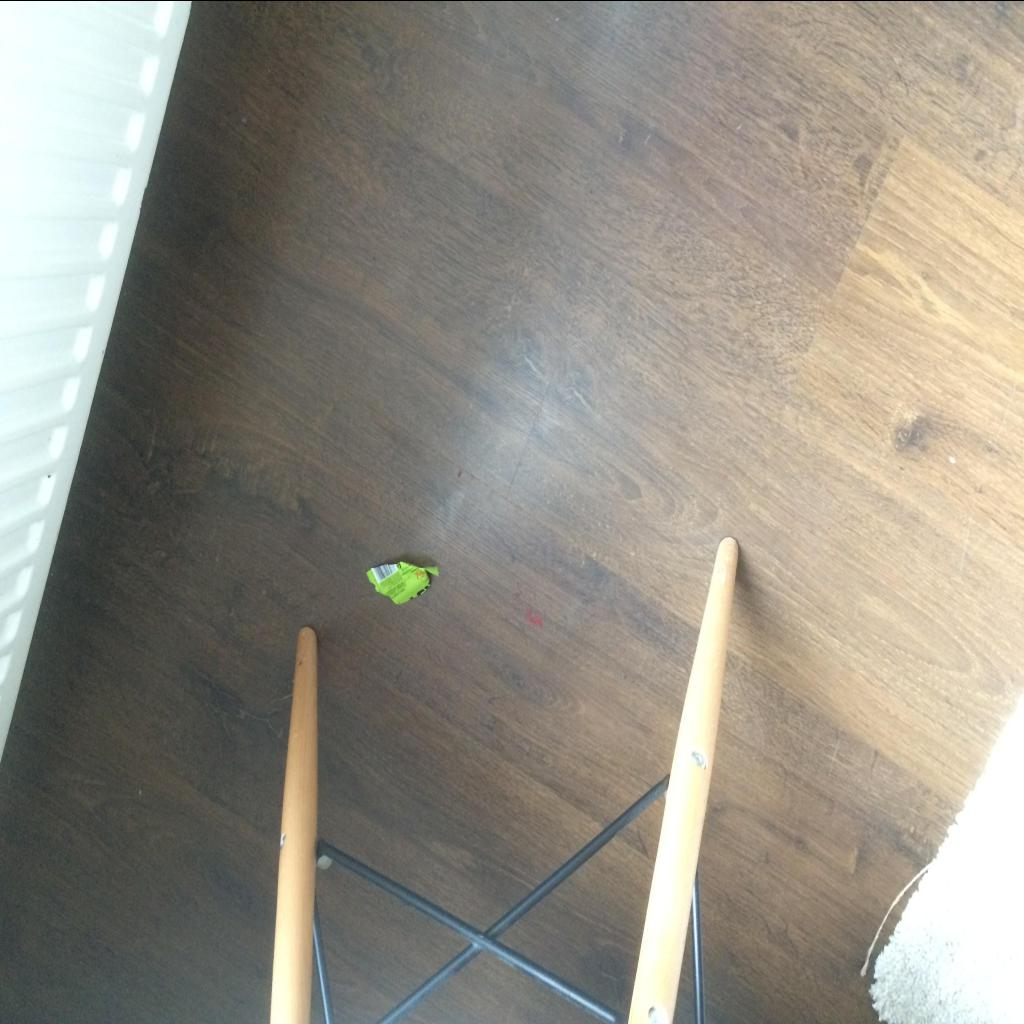Other plastic: (366, 561, 440, 604)
